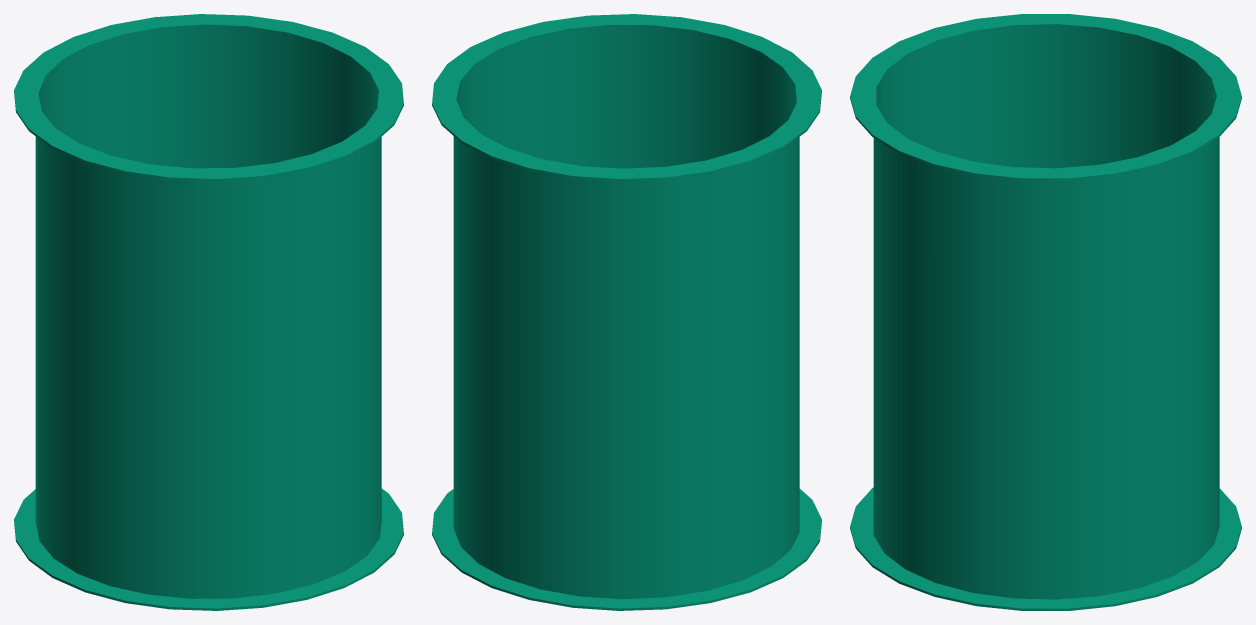
File: model-straight-1060.fbx
3 views of the same model, side by side, from view 1: azimuth 30°, elevation 25°; view 2: azimuth 150°, elevation 25°; view 3: azimuth 270°, elevation 25° (orthographic).
Visible parts, largest first — view 1: Straight-106; view 2: Straight-106; view 3: Straight-106.
Boxes of the visible parts, box(x1,y1,x2,y2) form: Straight-106: box(14, 14, 403, 610); Straight-106: box(432, 14, 821, 610); Straight-106: box(850, 14, 1241, 610).
Bounding box in the file's own units: 87.36 × 107 × 88.
